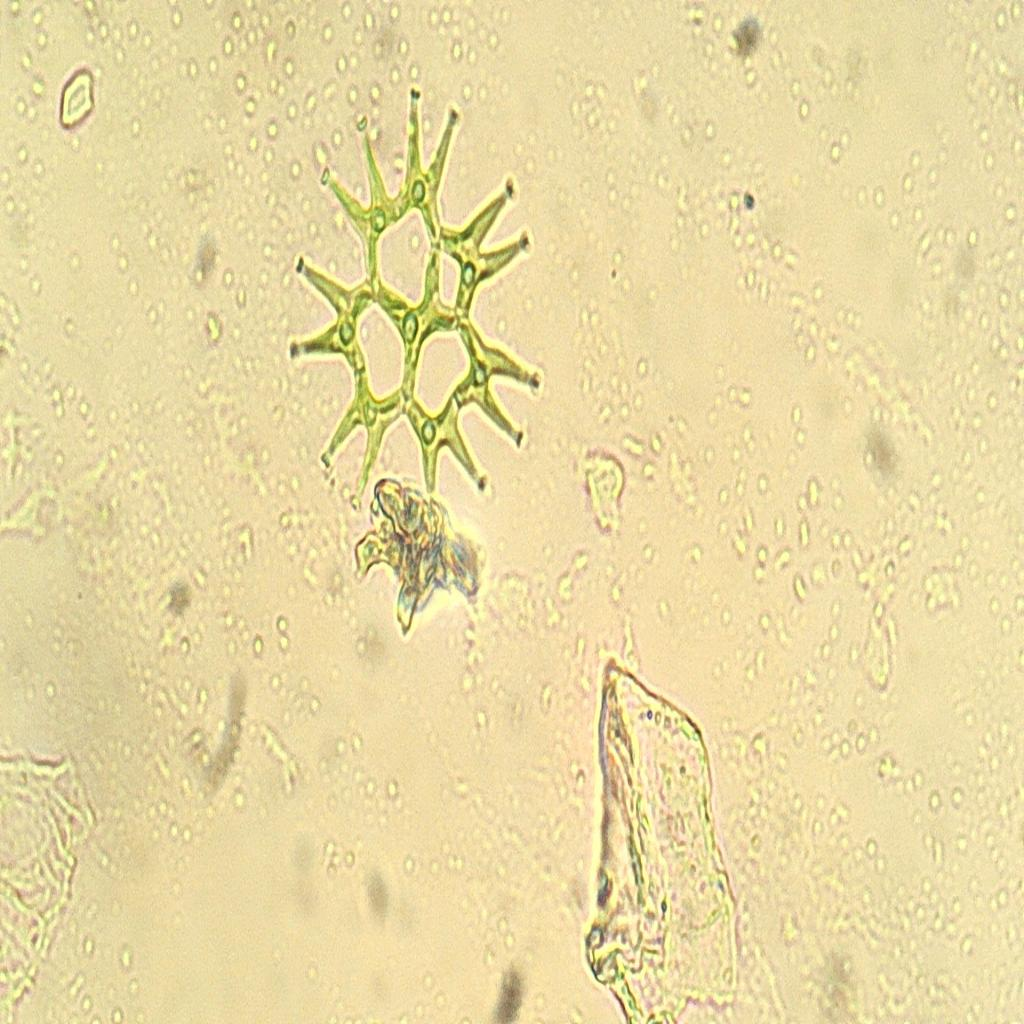Pediastrum_75T: (271, 68, 561, 534)
